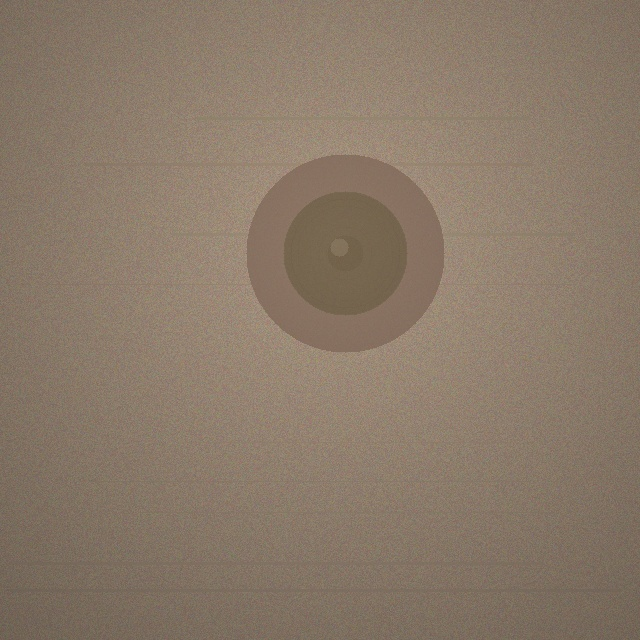good: (246, 154, 444, 352)
